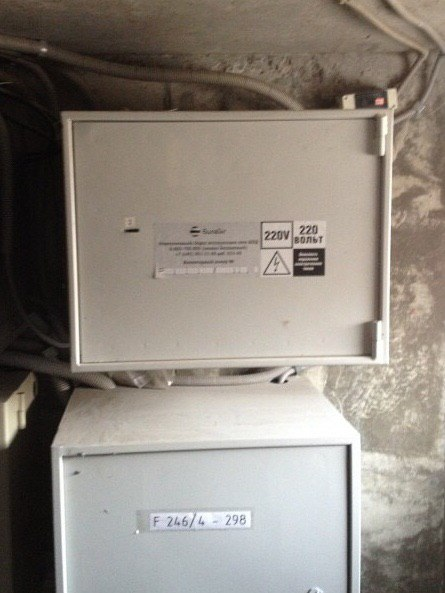shta-9m: (45, 91, 410, 382)
